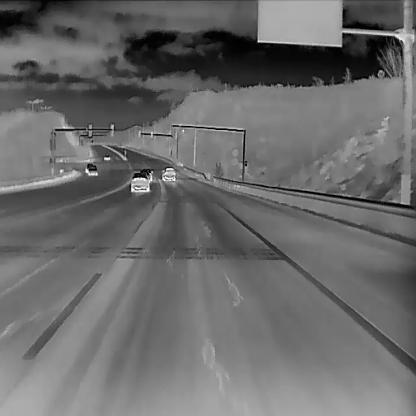car: (130, 171, 150, 193), (161, 166, 176, 181), (140, 166, 153, 180), (87, 164, 97, 176), (84, 162, 94, 173), (102, 153, 111, 161)
